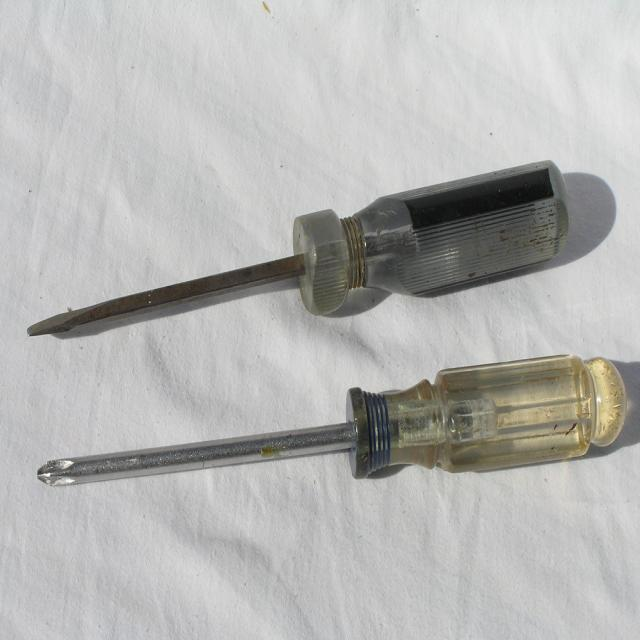screwdriver: (24, 157, 578, 346), (33, 354, 630, 494)
